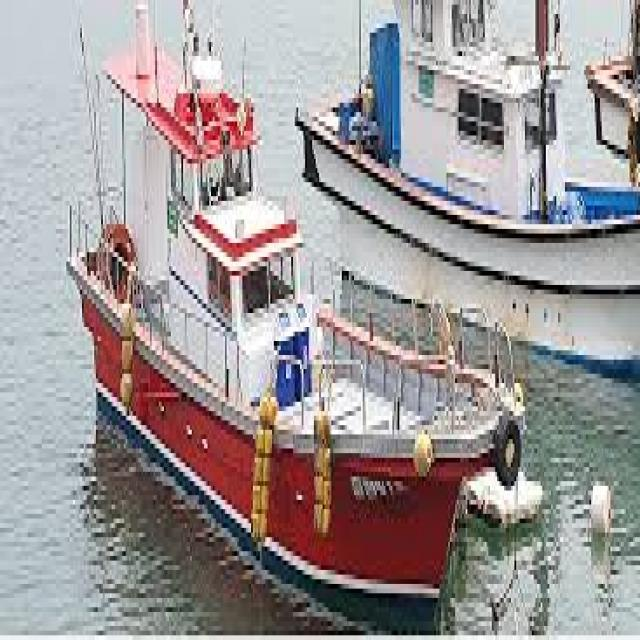Ship: (64, 1, 533, 636), (291, 1, 640, 403)
